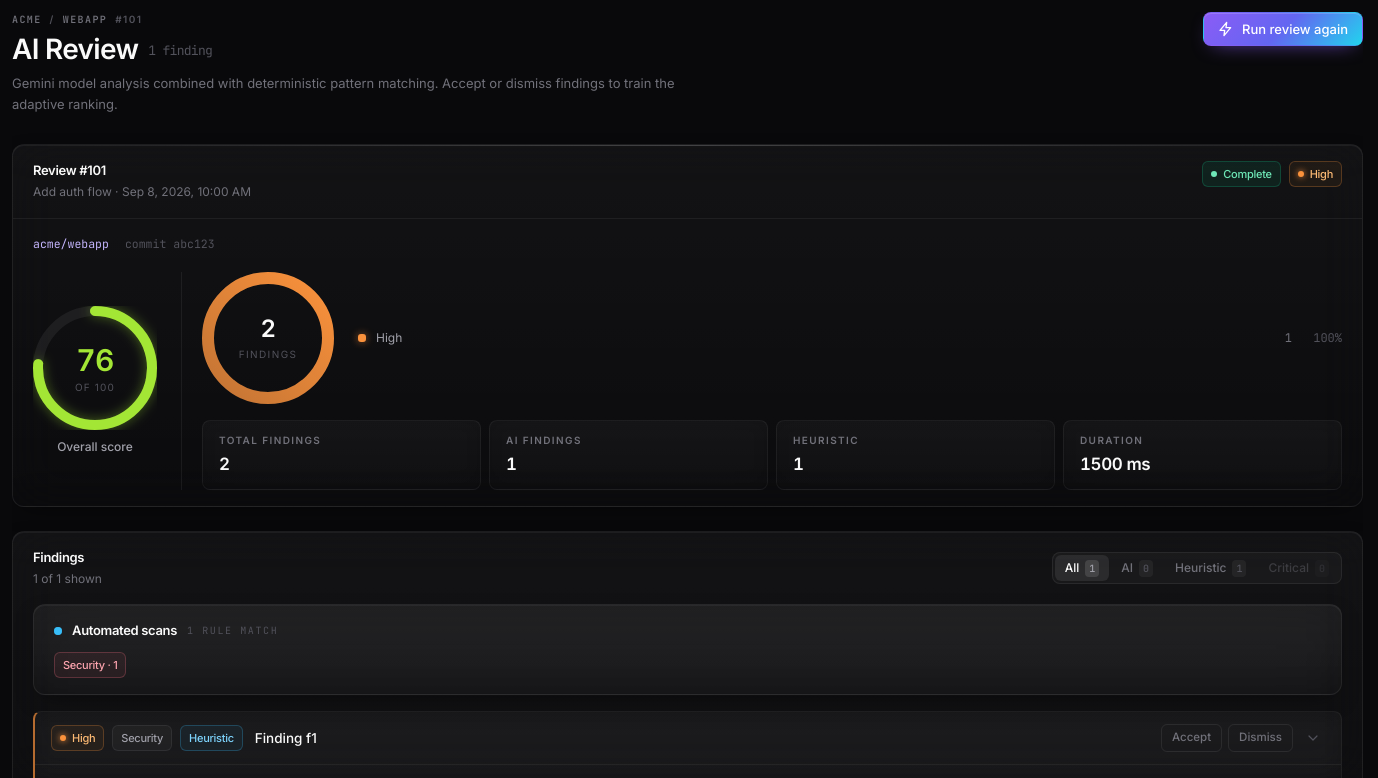
Test: ReviewPage › lets the user accept a finding and stores the feedback
Expected: the heading "Finding f1" is shown, 255,730 -> 317,746
Click the button "Accept": (1192, 738) 1161,724 -> 1222,752
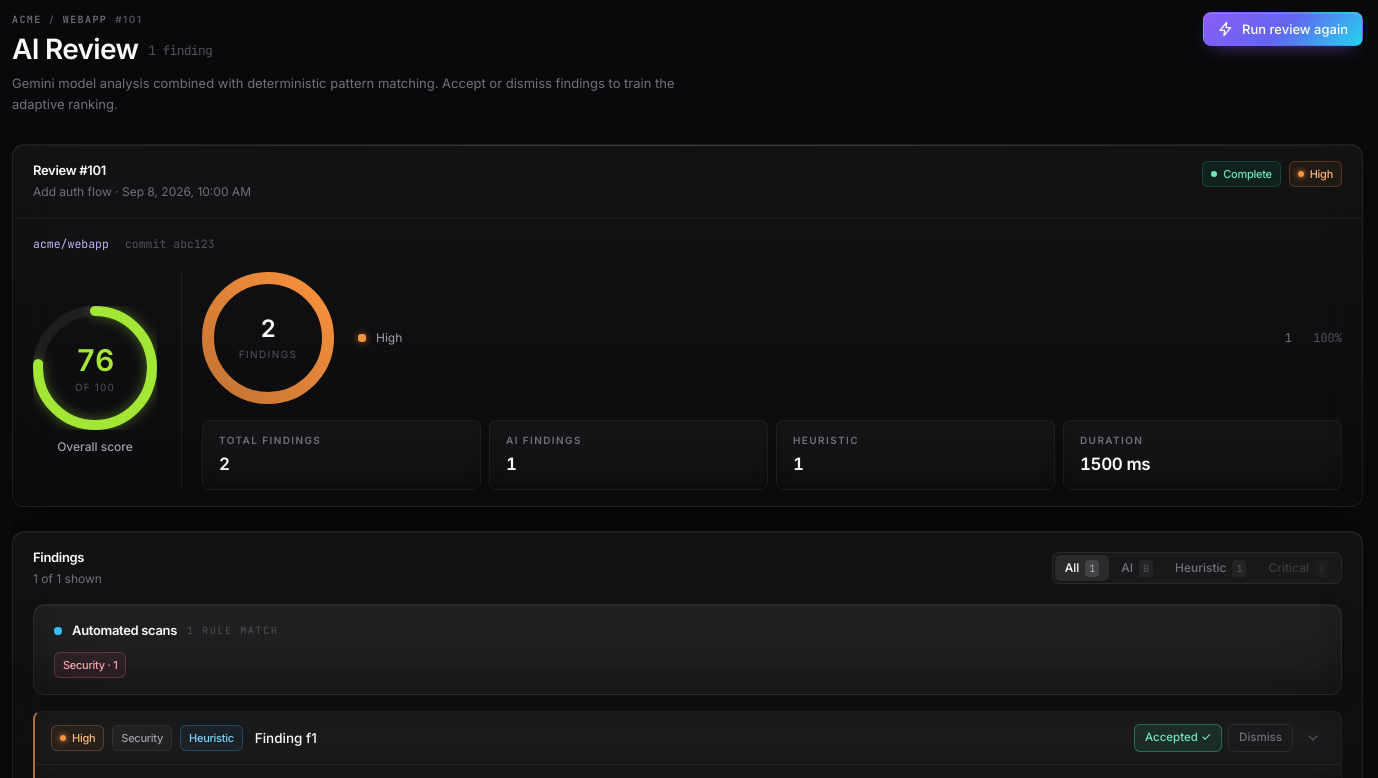
Now the button "Accepted ✓" is shown, box 1134,724 -> 1222,752
